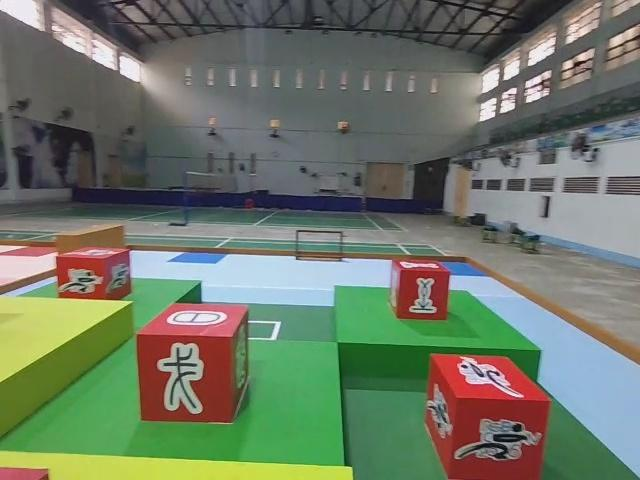R1: (425, 351, 551, 480), (55, 247, 134, 300)
R2 Fake: (135, 300, 250, 424)
R2 Real: (390, 257, 450, 323)
